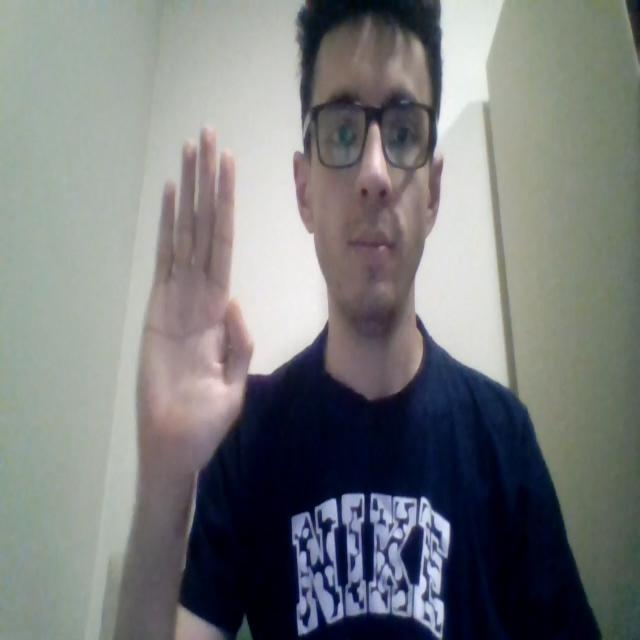hello: (134, 124, 254, 481)
